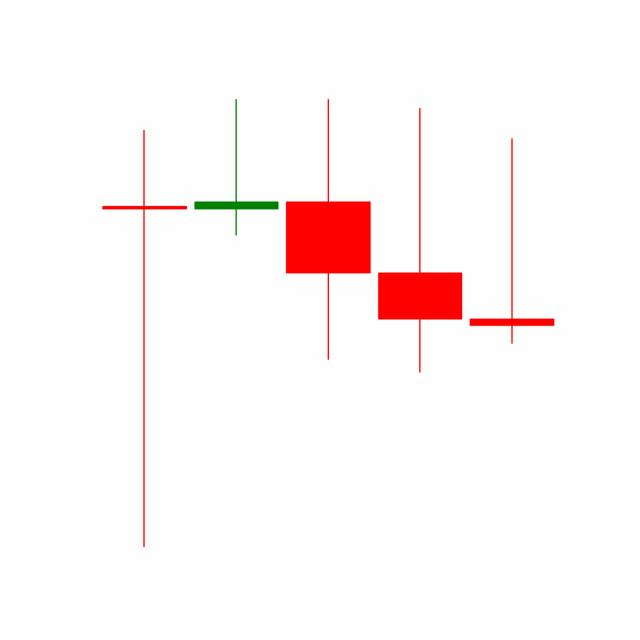Gravestone Doji: (464, 135, 558, 346)
